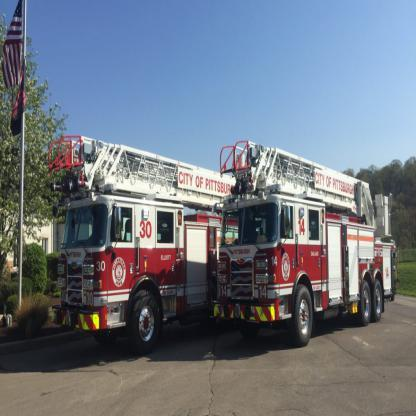fire-truck: (31, 106, 410, 392)
